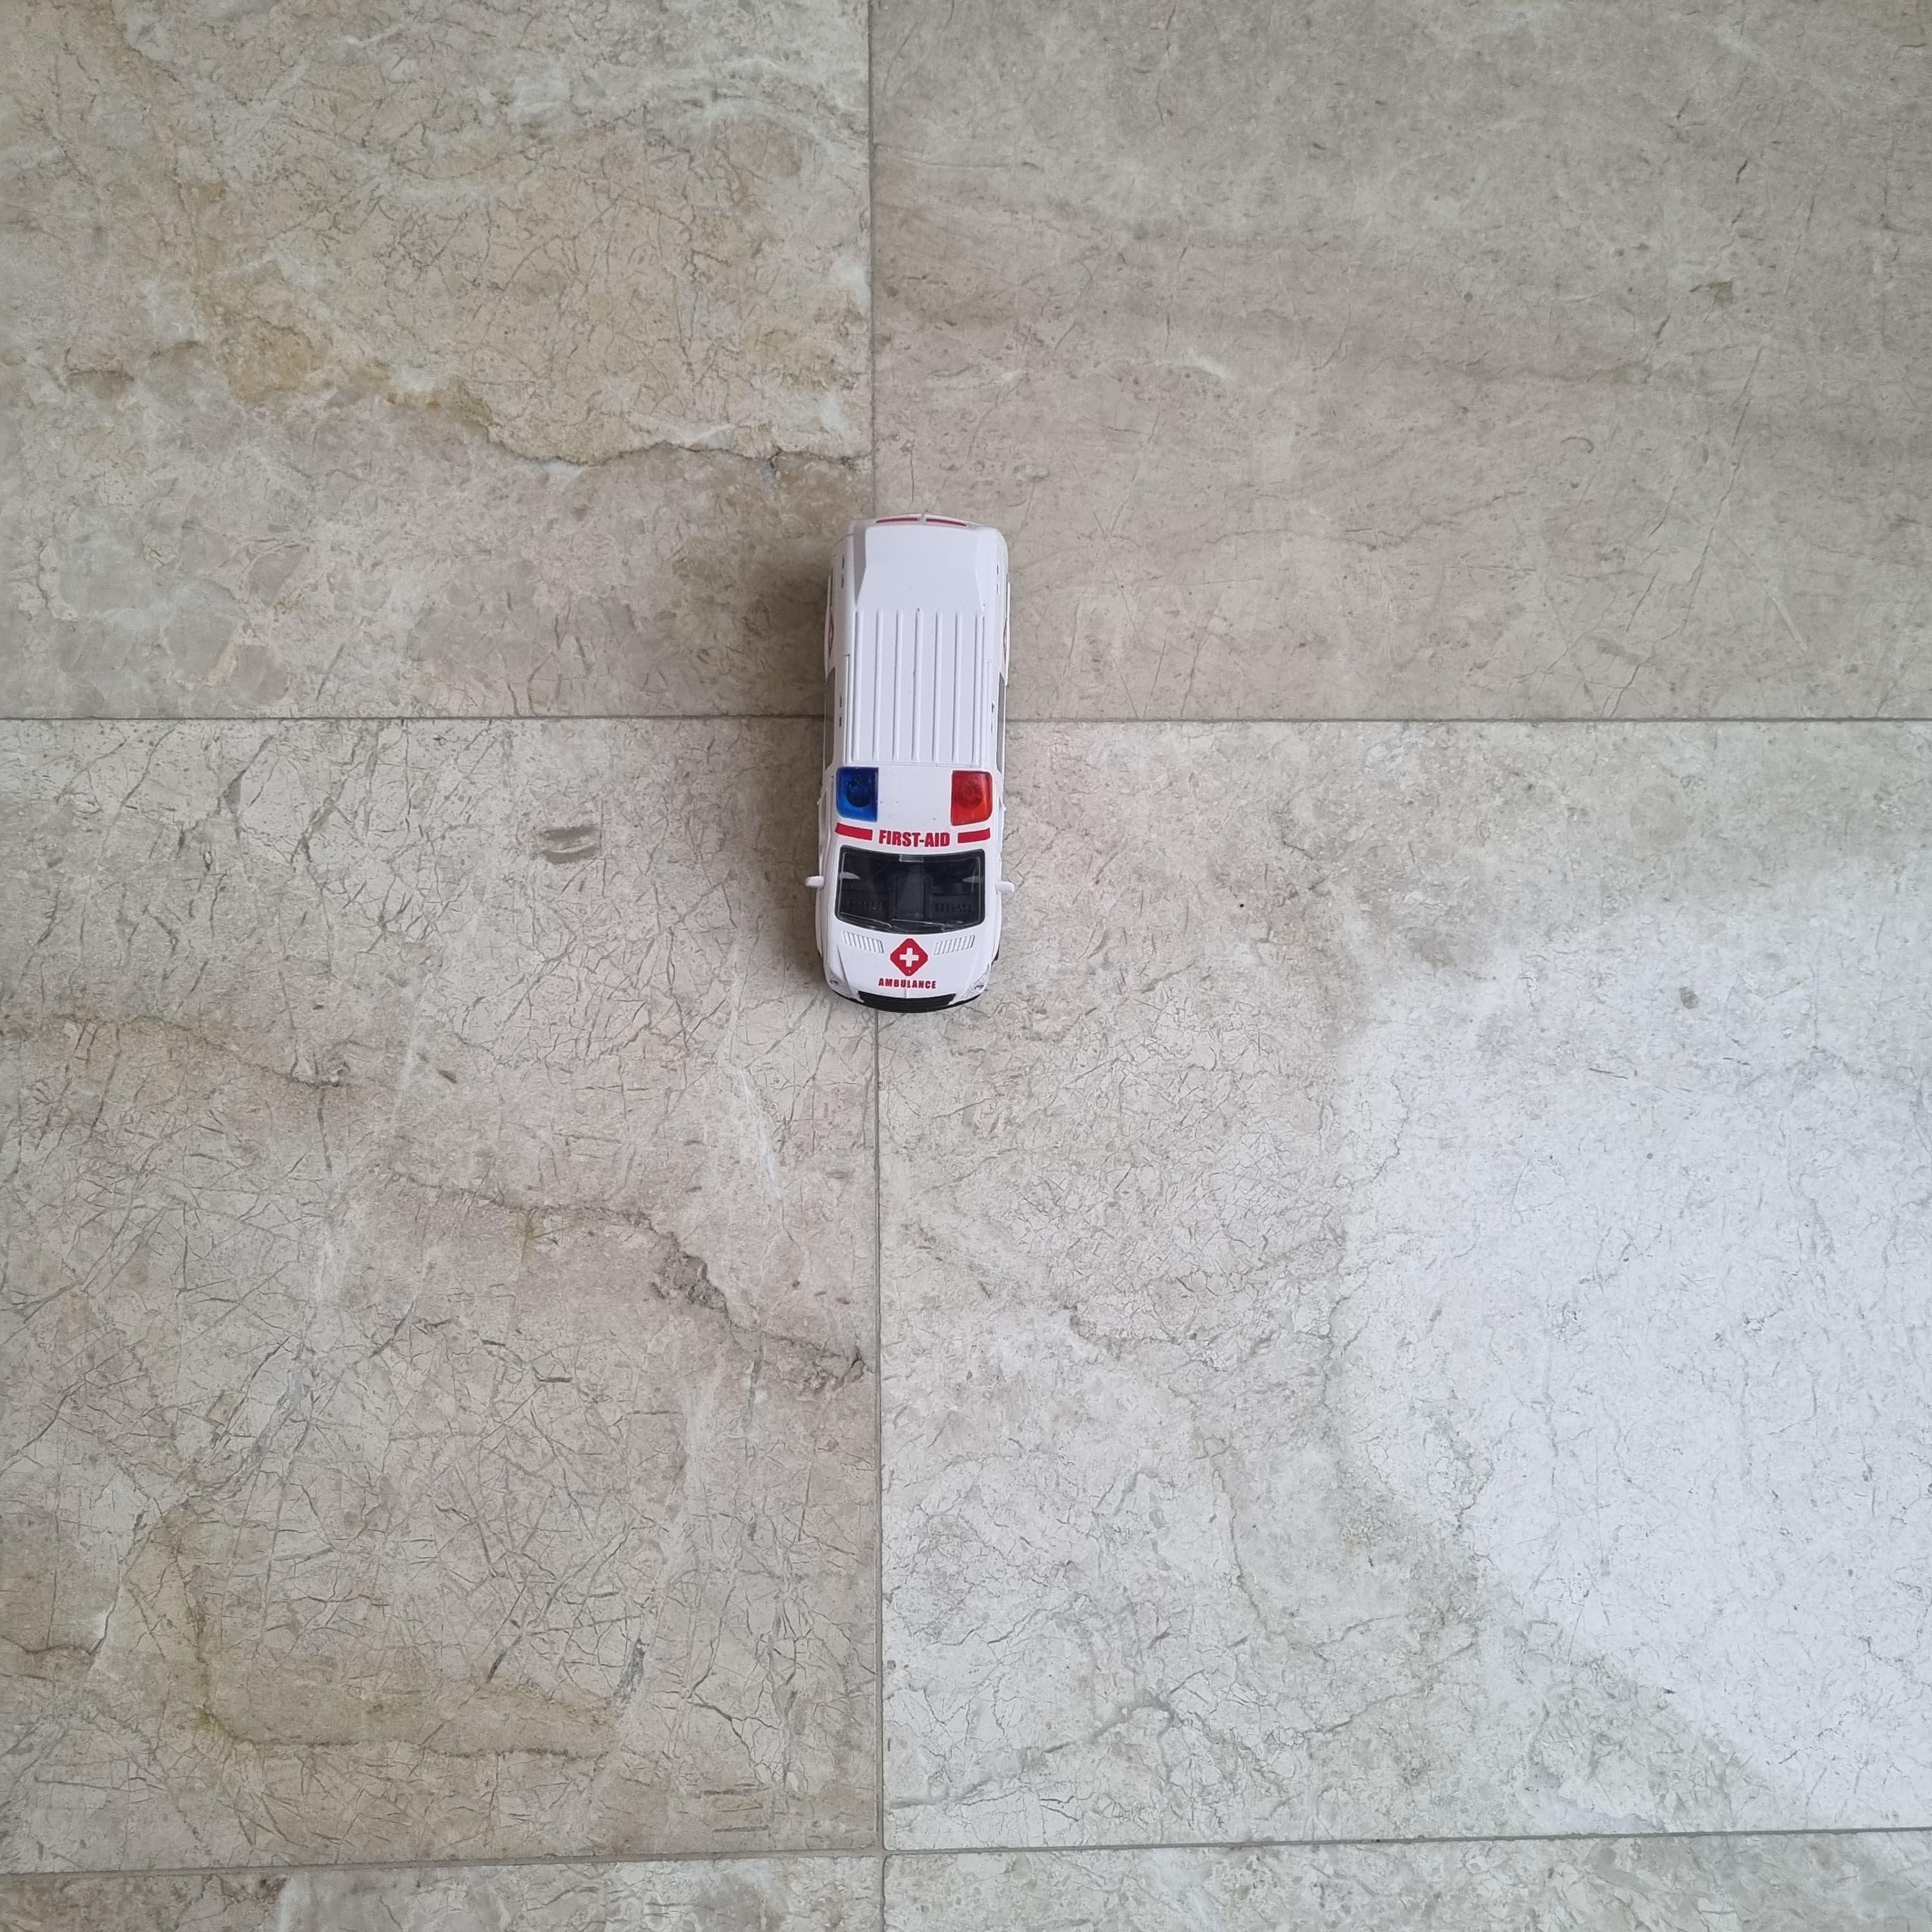ambulance_off: (805, 515, 1023, 1017)
